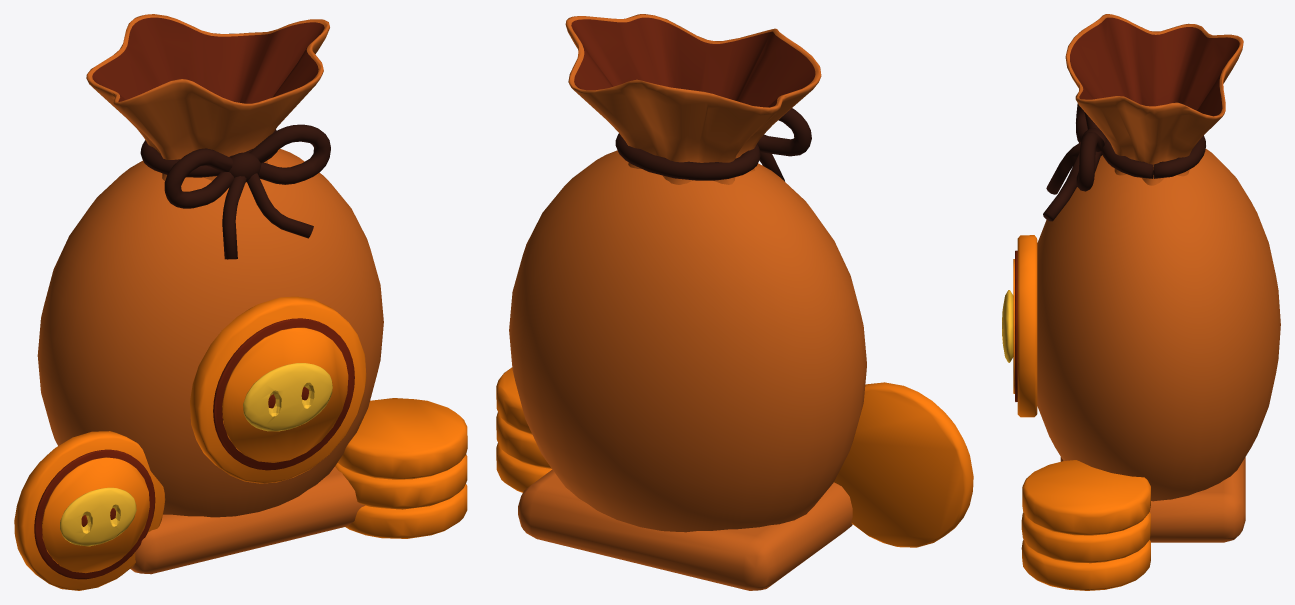
File: loot-bag.obj
3 renders of one model, left to right at view 1: azimuth 30°, elevation 25°; view 2: azimuth 150°, elevation 25°; view 3: azimuth 270°, elevation 25°, orthographic. The views are drawn at different scales.
Parts seen in each view (by area): view 1: Cloth, Gold, Lining, Rope, GoldLight, GoldDark; view 2: Cloth, Gold, Lining, Rope; view 3: Cloth, Gold, Lining, Rope, GoldLight, GoldDark.
Boxes of the visible parts, x1=… form: Cloth: x1=37, y1=14, x2=383, y2=574; Gold: x1=14, y1=296, x2=467, y2=590; Lining: x1=92, y1=17, x2=324, y2=103; Rope: x1=140, y1=124, x2=330, y2=259; GoldLight: x1=60, y1=363, x2=332, y2=546; GoldDark: x1=34, y1=318, x2=354, y2=579; Cloth: x1=509, y1=14, x2=866, y2=590; Gold: x1=496, y1=367, x2=973, y2=547; Lining: x1=571, y1=17, x2=815, y2=107; Rope: x1=615, y1=108, x2=811, y2=181; Cloth: x1=1037, y1=14, x2=1280, y2=542; Gold: x1=1013, y1=235, x2=1150, y2=590; Lining: x1=1070, y1=17, x2=1239, y2=116; Rope: x1=1043, y1=103, x2=1205, y2=221; GoldLight: x1=1002, y1=290, x2=1013, y2=362; GoldDark: x1=1015, y1=250, x2=1017, y2=401.
Bounding box in the file's own units: 2.87 × 3.01 × 1.67.
